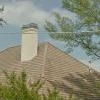Chimney: (18, 16, 39, 59)
